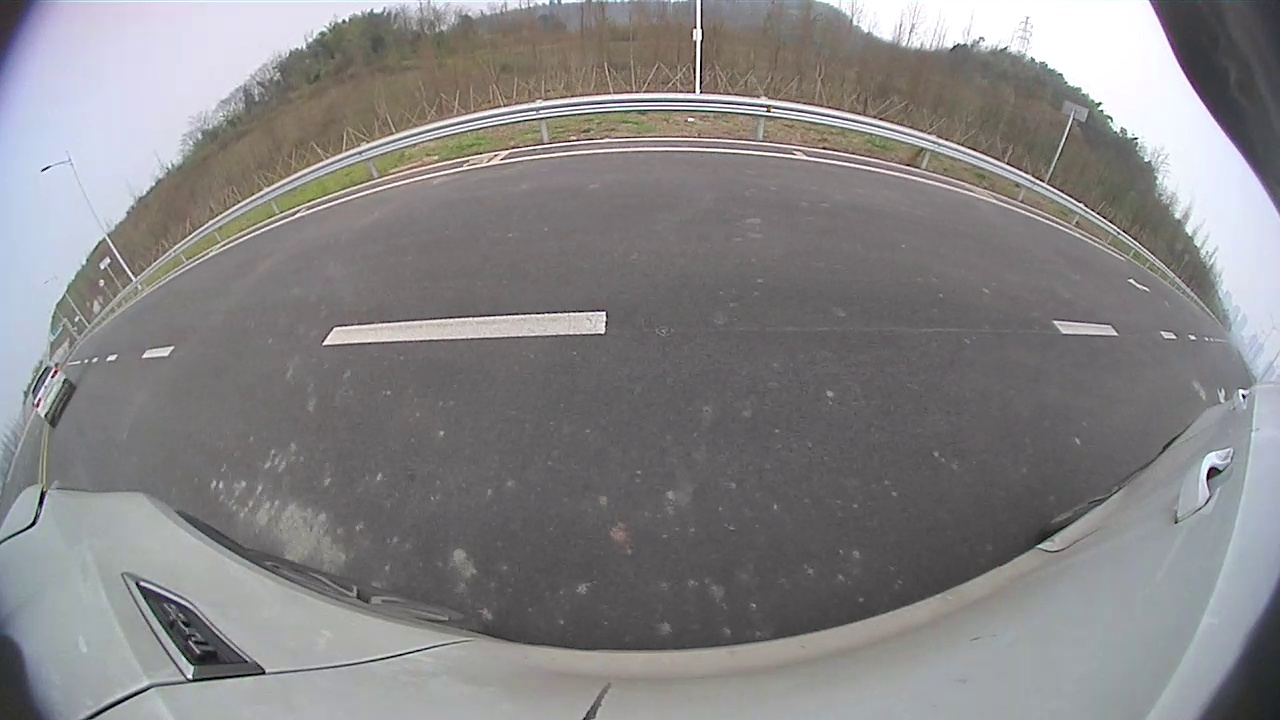car: (29, 361, 77, 429)
